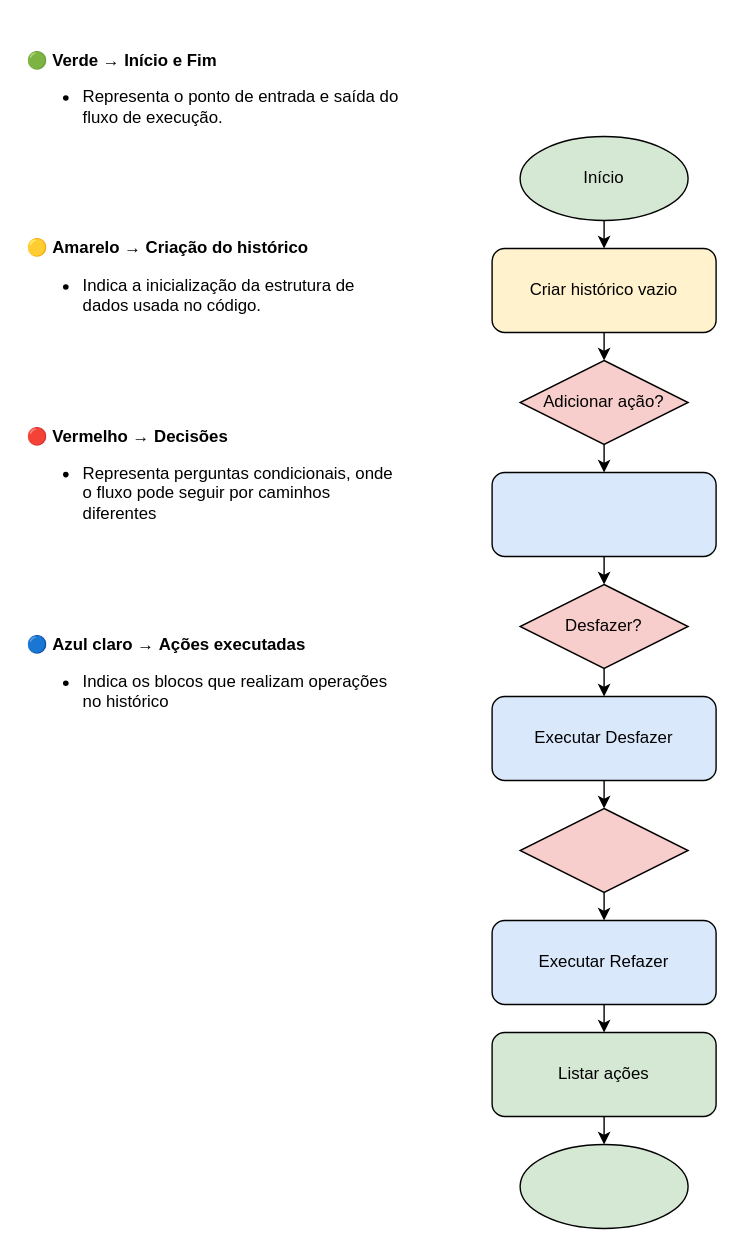
Image size: 741x1253. Some labels were removed from this diagram. The shapes that lost their labels are listed below. From the top down, each one's centre as x and y in pixels, then its label:
At point 603,513: "Executar Adição".
At point 603,849: "Refazer?".
At point 603,1185: "Fim".
